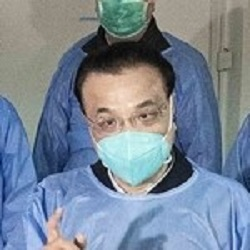mask: (91, 125, 170, 186)
